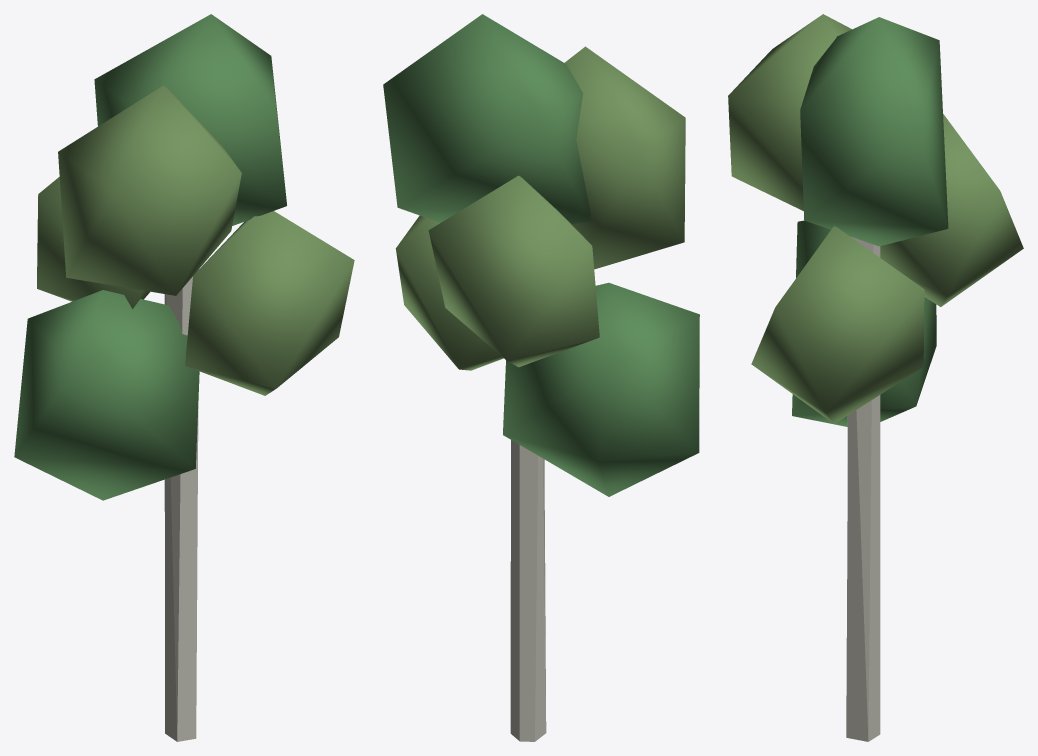
File: norway-birch_lod1.glb
3 renders of one model, left to right at view 1: azimuth 30°, elevation 25°; view 2: azimuth 150°, elevation 25°; view 3: azimuth 270°, elevation 25°, orthographic. The views are drawn at different scales.
Parts seen in each view (by area): view 1: RF_Birch_Crown0, RF_Birch_Crown4, RF_Birch_Crown1, RF_Birch_Crown3, RF_Birch_Trunk, RF_Birch_Crown2; view 2: RF_Birch_Crown3, RF_Birch_Crown0, RF_Birch_Crown2, RF_Birch_Crown4, RF_Birch_Trunk, RF_Birch_Crown1; view 3: RF_Birch_Crown3, RF_Birch_Crown1, RF_Birch_Trunk, RF_Birch_Crown4, RF_Birch_Crown2, RF_Birch_Crown0.
Boxes of the visible parts, x1,y1,x2,y2 form: RF_Birch_Crown0: [14, 290, 199, 500]; RF_Birch_Crown4: [58, 85, 241, 295]; RF_Birch_Crown1: [185, 211, 354, 395]; RF_Birch_Crown3: [94, 14, 286, 225]; RF_Birch_Trunk: [164, 269, 198, 741]; RF_Birch_Crown2: [37, 177, 149, 308]; RF_Birch_Crown3: [383, 14, 590, 224]; RF_Birch_Crown0: [503, 282, 699, 496]; RF_Birch_Crown2: [428, 175, 599, 367]; RF_Birch_Crown4: [564, 46, 685, 269]; RF_Birch_Trunk: [510, 440, 546, 741]; RF_Birch_Crown1: [395, 215, 503, 370]; RF_Birch_Crown3: [800, 17, 948, 246]; RF_Birch_Crown1: [751, 226, 924, 423]; RF_Birch_Trunk: [846, 236, 880, 741]; RF_Birch_Crown4: [728, 14, 851, 211]; RF_Birch_Crown2: [880, 114, 1023, 306]; RF_Birch_Crown0: [792, 220, 936, 426].
Size of the model in its own units: 6.61 by 14.51 by 5.28.
